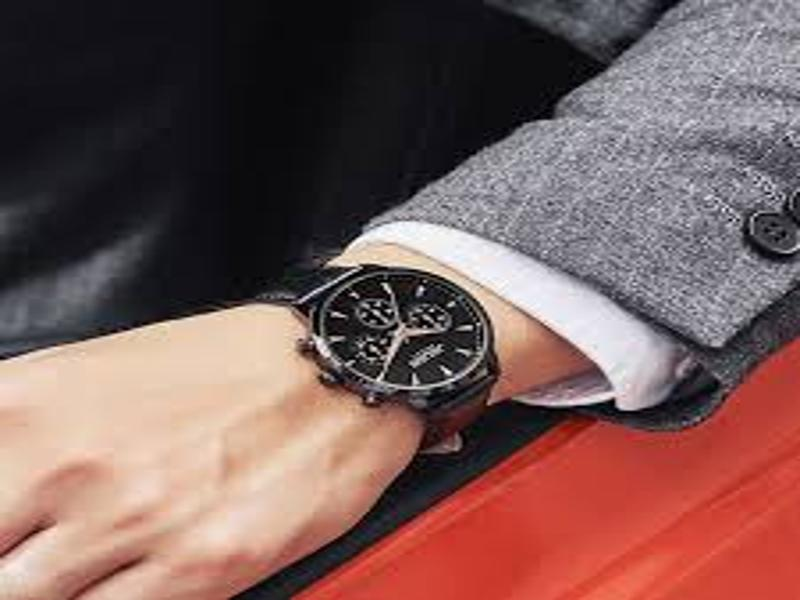watch: (256, 260, 505, 456)
